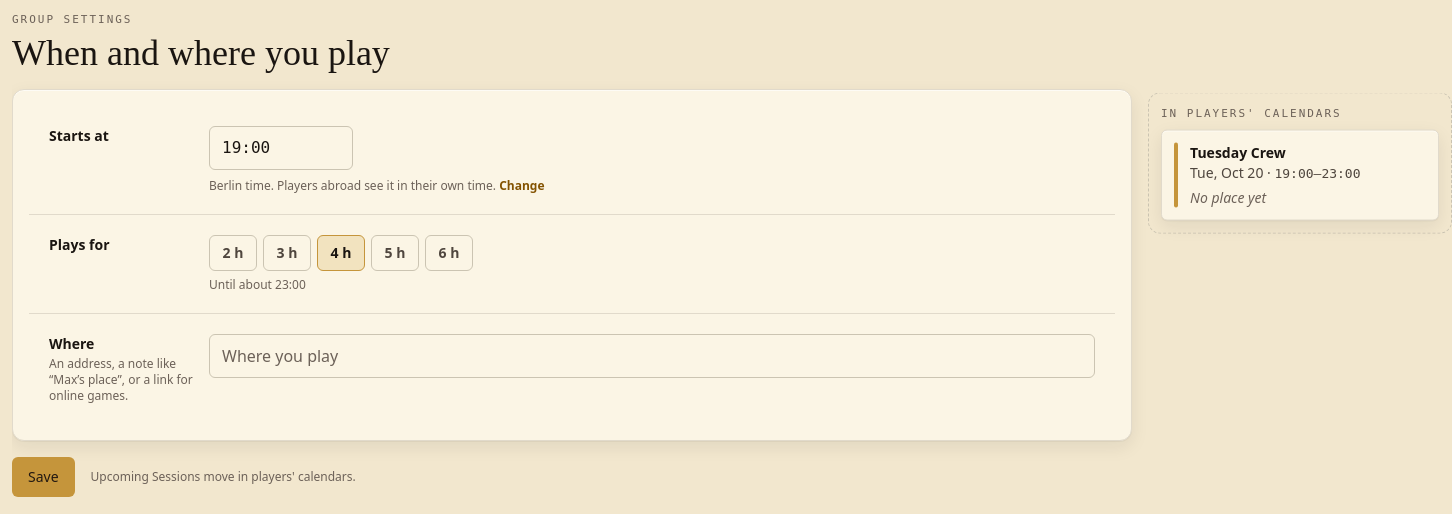
Scenario: TimeAndPlacePage › moves the end time and the preview as soon as the start or the length changes
This screenshot has width=1452, height=514.
Type "18:30" into the field labelled "Starts at".
click(281, 148); type("18:30")  # box x1=209 y1=126 x2=353 y2=170
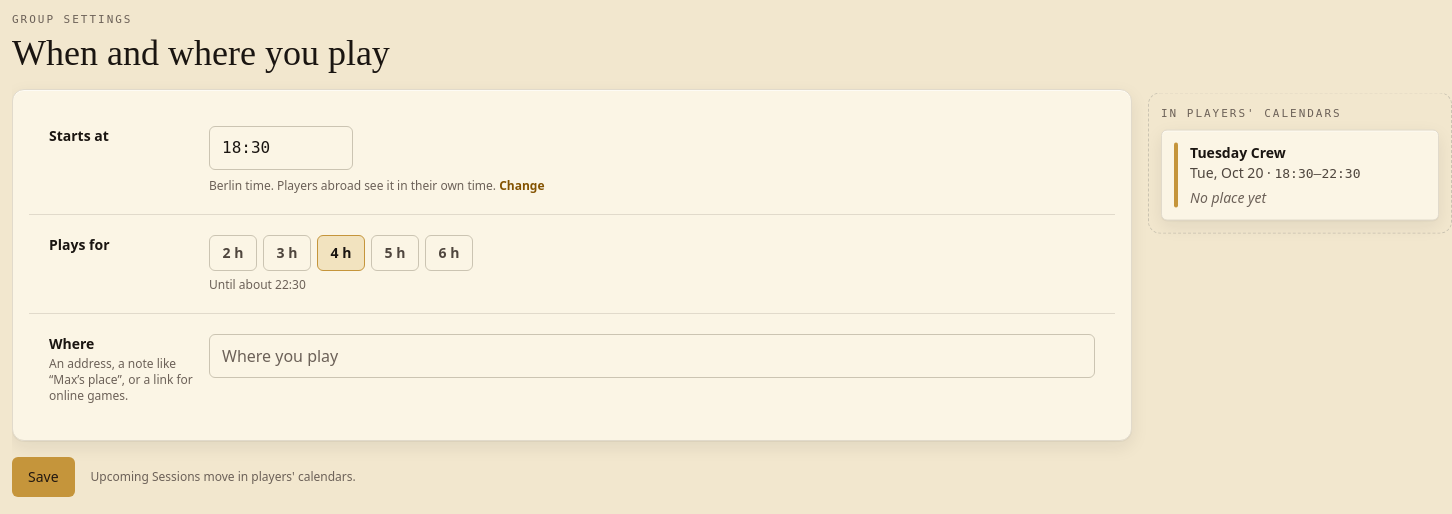
Expected: the text "Until about 22:30" is shown, x1=209 y1=276 x2=306 y2=292
Expected: the element "In players' calendars" shows "18:30–22:30", x1=1274 y1=166 x2=1360 y2=180
Click the radio button labelled "6 h".
click(449, 252)  # box x1=425 y1=234 x2=473 y2=270
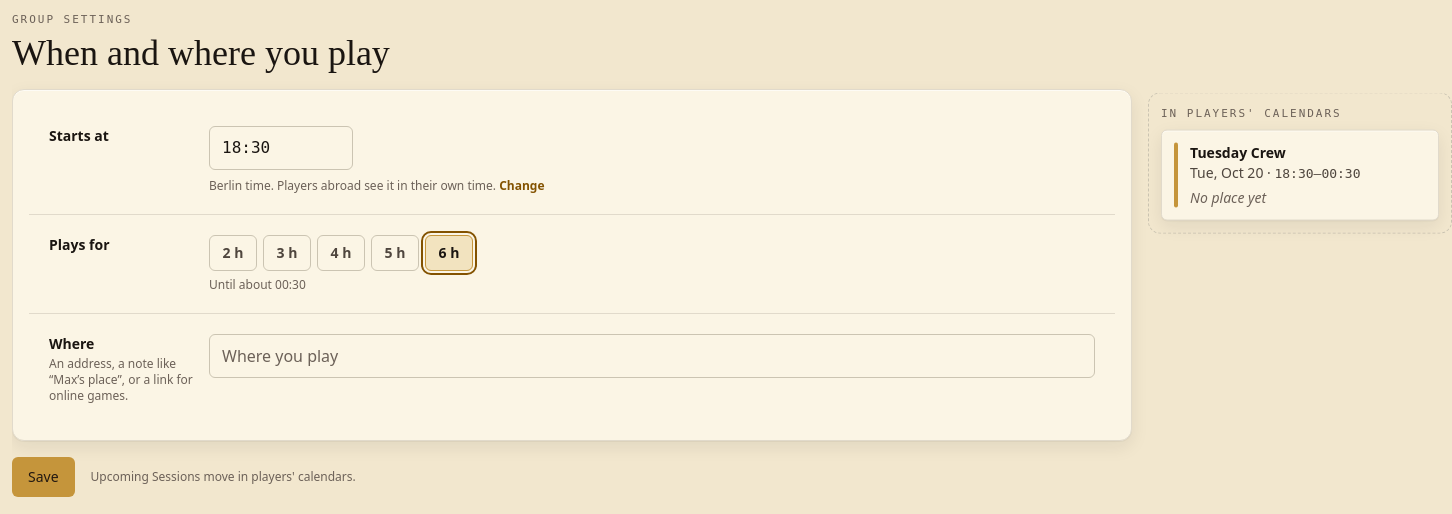
Expected: the text "Until about 00:30" is shown, x1=209 y1=276 x2=306 y2=292
Expected: the element "In players' calendars" shows "18:30–00:30", x1=1274 y1=166 x2=1360 y2=180
